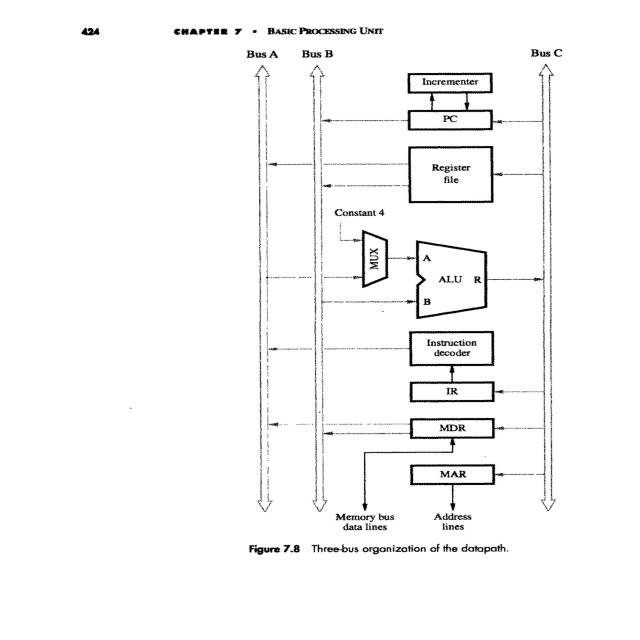diagram: (80, 45, 566, 568)
